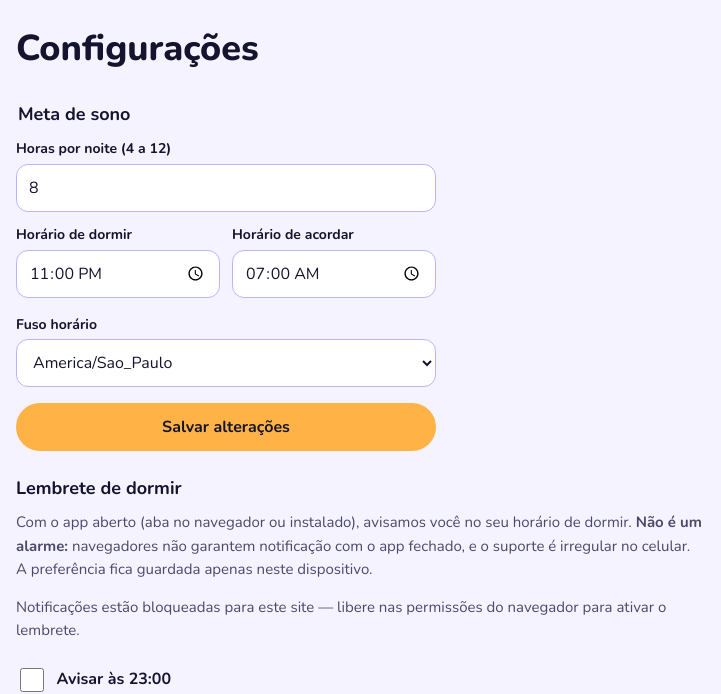
Test: tela de Configurações › não ativa o lembrete quando a notificação é negada
Click the checkbox labelled "Avisar às 23:00" at [32, 680], box [20,668,44,692]
(page scrolled)
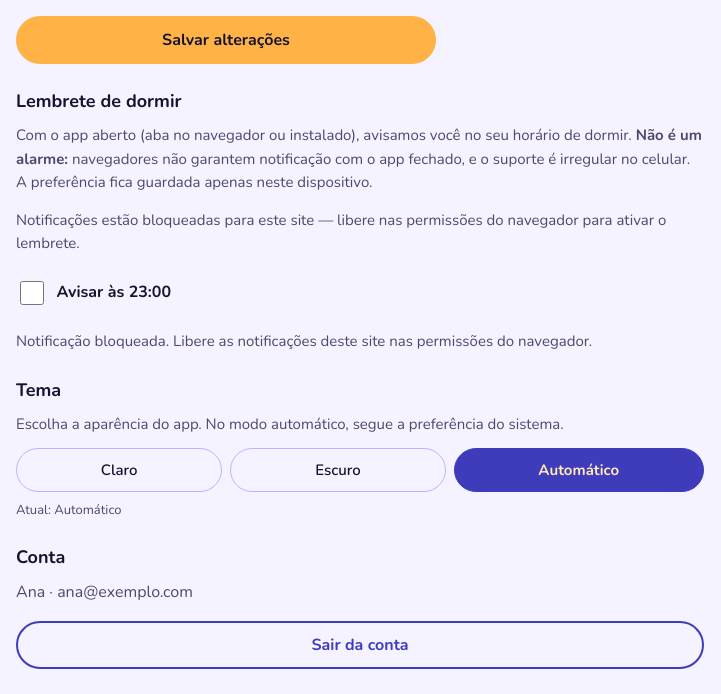
Expected: the text "Notificação bloqueada" is shown, [16,331,592,351]
